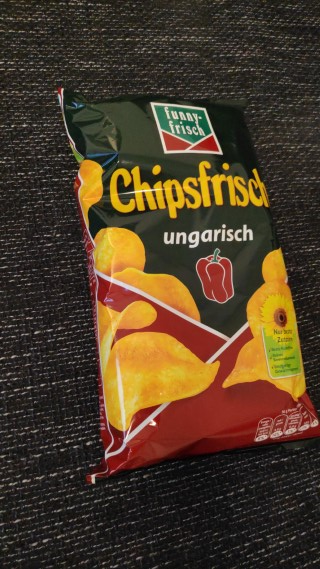chipsfrisch: (54, 83, 320, 486)
